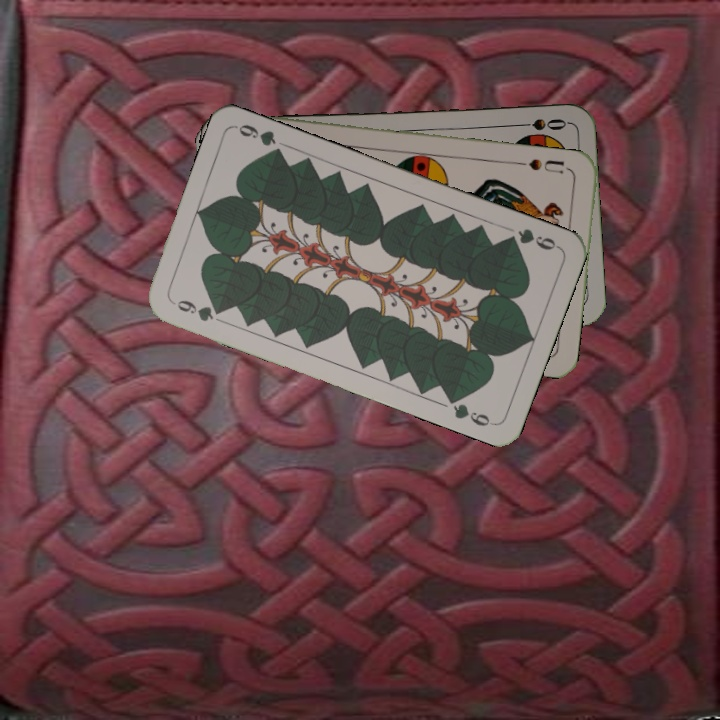G9: (502, 224, 562, 253), (168, 295, 228, 324)
SO: (510, 114, 569, 133)
SU: (525, 154, 567, 177)
